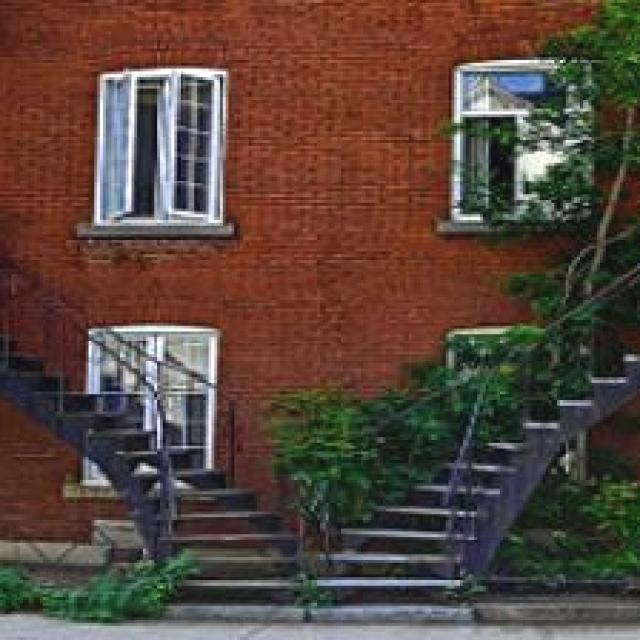upstair: (96, 373, 516, 598)
